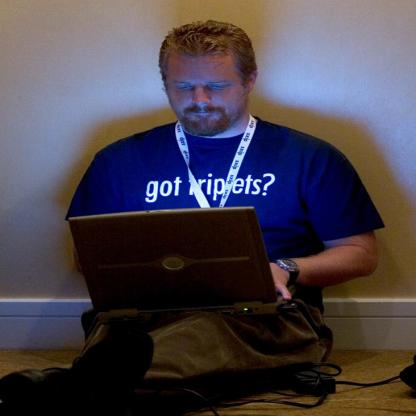board: (65, 206, 295, 322)
